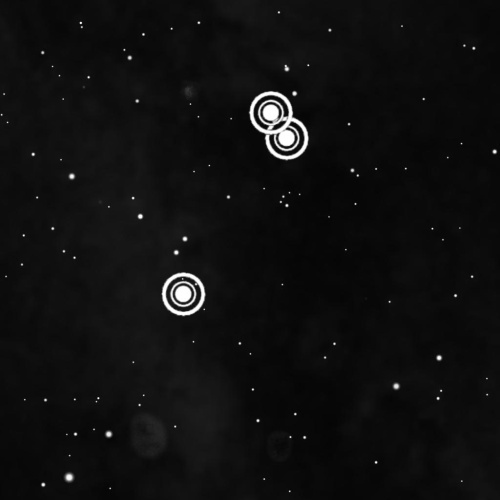canis_minor: (156, 86, 314, 322)
